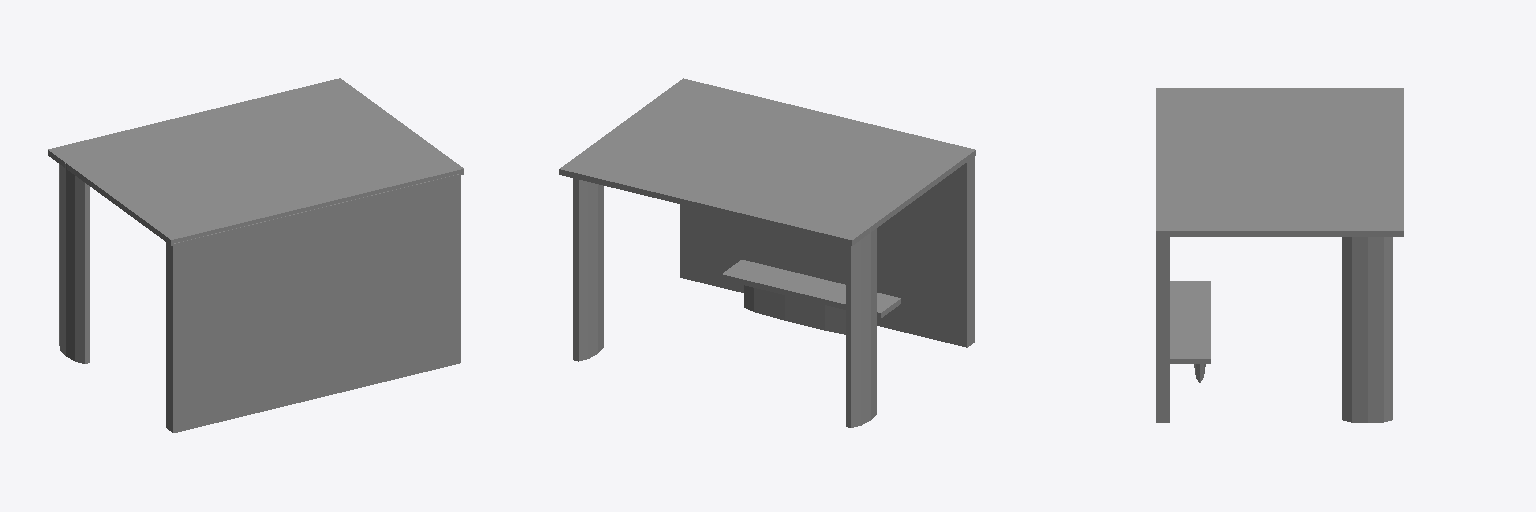
File: Bus-stop.obj
3 renders of one model, left to right at view 1: azimuth 30°, elevation 25°; view 2: azimuth 150°, elevation 25°; view 3: azimuth 270°, elevation 25°, orthographic.
Visible parts, largest first — view 1: 000_Merged_Objects; view 2: 000_Merged_Objects; view 3: 000_Merged_Objects.
Boxes of the visible parts, x1=… form: 000_Merged_Objects: x1=48, y1=78, x2=463, y2=432; 000_Merged_Objects: x1=559, y1=78, x2=975, y2=427; 000_Merged_Objects: x1=1156, y1=88, x2=1403, y2=422.
Bounding box in the file's own units: 1.39 × 0.874 × 1.02.